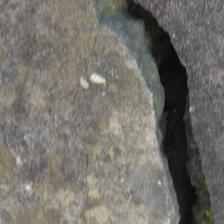Crack: (90, 5, 216, 219)
